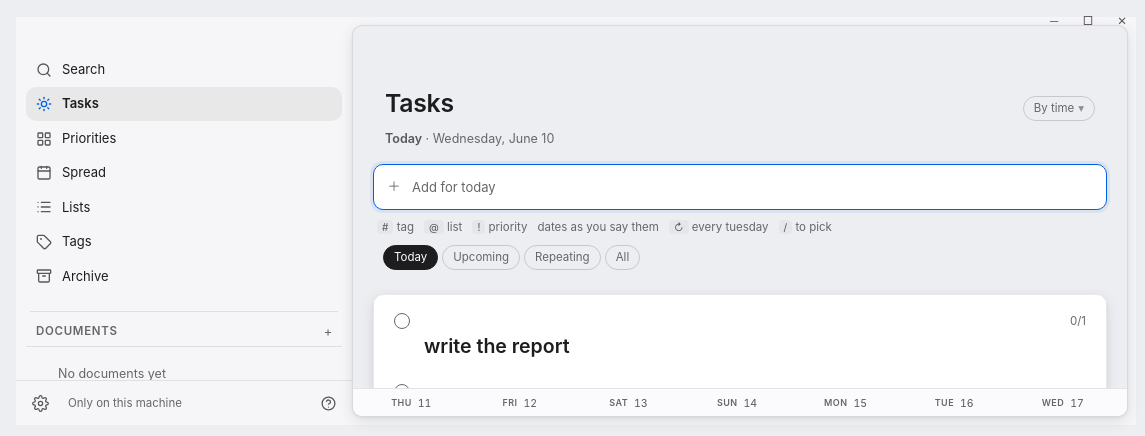
Test: closing an open task › hands the keyboard back to the row it was opened from
The image size is (1145, 436).
Click the heading "write the report" at (497, 346), box top-left (424, 334), bottom-right (570, 358)
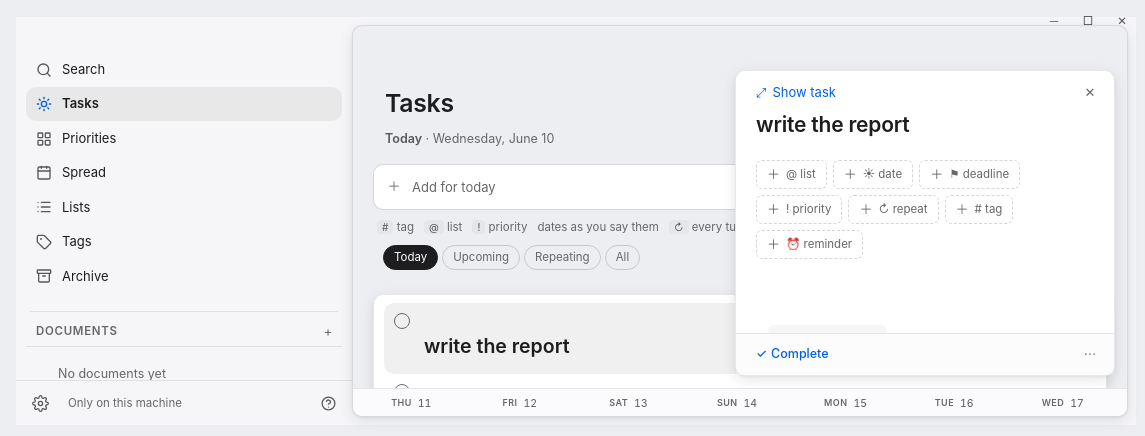
Check: the text box named "Title" is shown, box top-left (736, 111), bottom-right (1114, 140)
Click the button named "Close the task" at (1090, 93), box top-left (1078, 81), bottom-right (1102, 105)
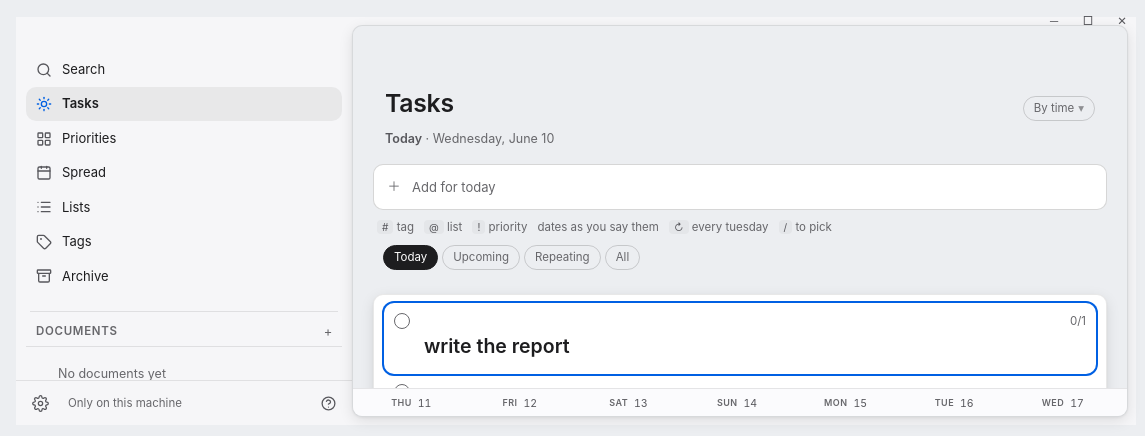
Check: the button "Title" is gone
